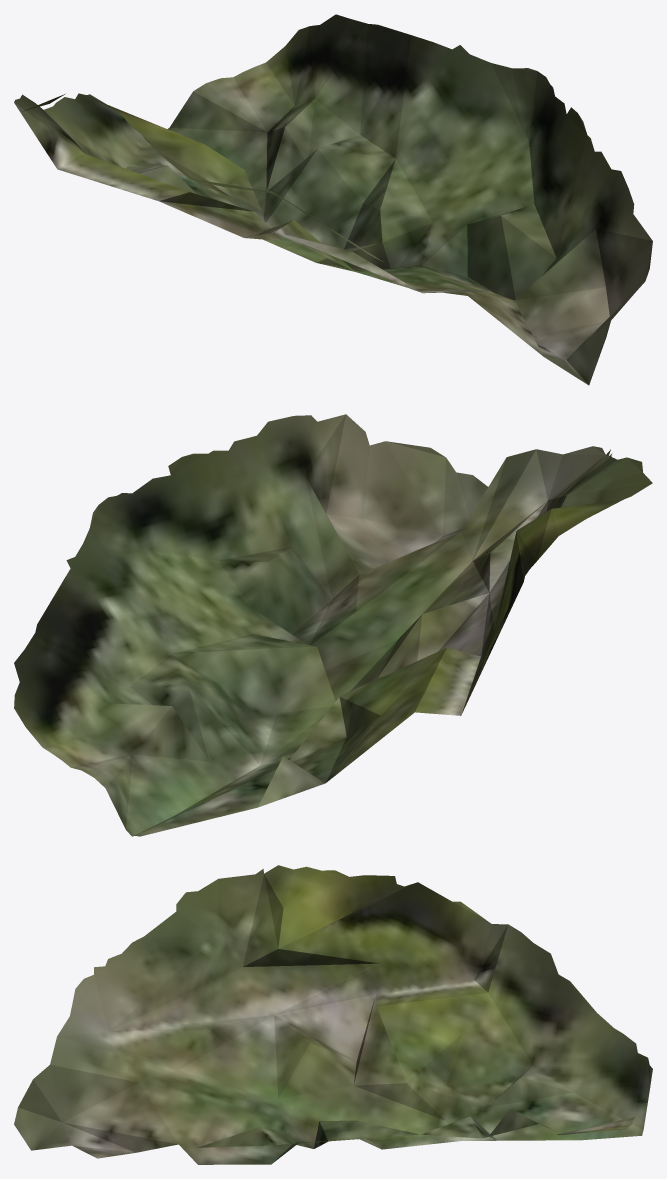
The picture shows the model from 3 angles, top to bottom: view 1: azimuth 30°, elevation 25°; view 2: azimuth 150°, elevation 25°; view 3: azimuth 270°, elevation 25°; orthographic projection. The views are drawn at different scales.
Size of the model in its own units: 187 by 91 by 286.
Materials: 1 (1 with a texture image).
